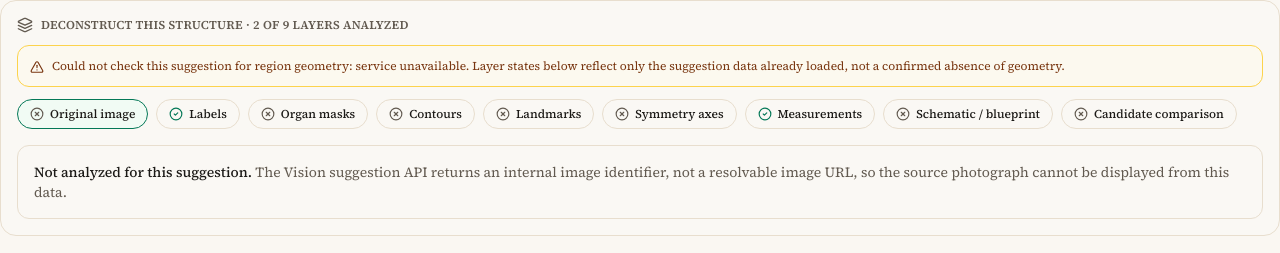
Test: MatrixMorphologyViewer › shows an explicit error banner without claiming geometry is confirmed absent when the region fetch fails
Step 1. Click the tab "Organ masks" → (308, 114), box [248, 99, 368, 129]
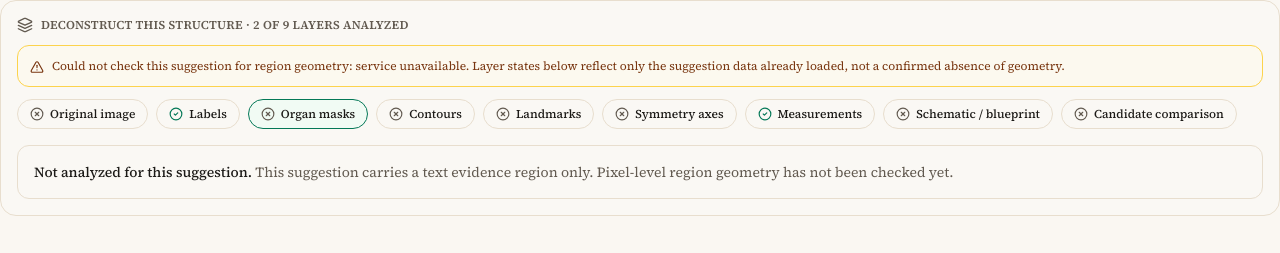
Expected: the text "not been checked yet" is shown, [255, 162, 954, 182]
